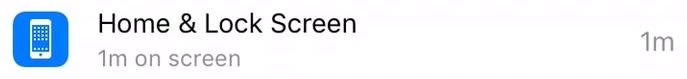name: (90, 4, 372, 40)
time: (90, 45, 132, 72)
